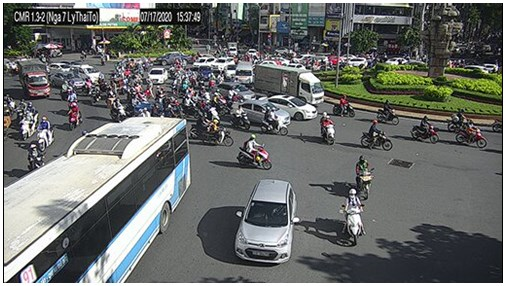xe_buyt: (4, 120, 188, 283)
xe_hoi: (235, 179, 294, 265), (231, 101, 290, 127), (259, 95, 316, 121), (72, 63, 104, 83), (51, 71, 85, 89), (341, 56, 366, 70), (155, 52, 184, 64), (209, 57, 234, 70), (147, 68, 166, 84), (252, 60, 277, 72), (458, 65, 487, 75), (46, 62, 69, 73), (385, 56, 407, 67), (192, 57, 215, 67), (474, 63, 498, 72)
xe_may: (236, 134, 271, 171), (344, 188, 364, 245), (360, 120, 393, 151), (202, 120, 235, 146), (410, 115, 439, 144), (455, 122, 486, 148), (261, 108, 290, 135), (355, 156, 372, 200), (446, 109, 477, 133), (190, 116, 219, 140), (37, 116, 56, 151), (332, 94, 356, 118), (376, 101, 399, 126), (181, 93, 201, 118), (320, 111, 335, 144), (233, 105, 252, 131), (20, 111, 37, 140), (66, 100, 82, 130), (109, 97, 126, 122), (28, 143, 44, 169), (200, 99, 218, 121), (212, 93, 227, 116), (27, 101, 38, 129), (17, 100, 27, 130), (67, 90, 77, 110), (197, 72, 208, 89), (209, 71, 218, 89), (190, 70, 197, 87)
xe_tai: (253, 63, 323, 106)
